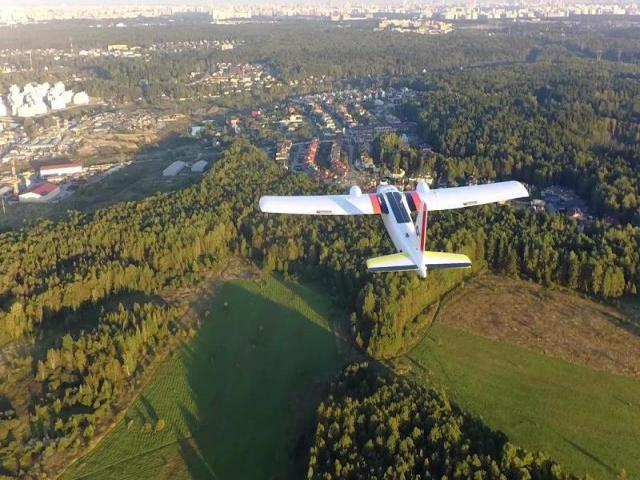hedef: (255, 170, 537, 276)
